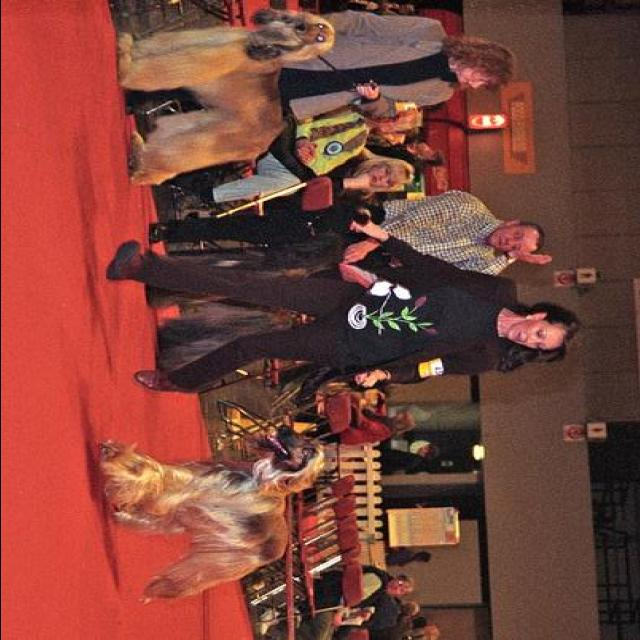afghan_hound: (97, 423, 323, 598), (118, 8, 334, 184)
